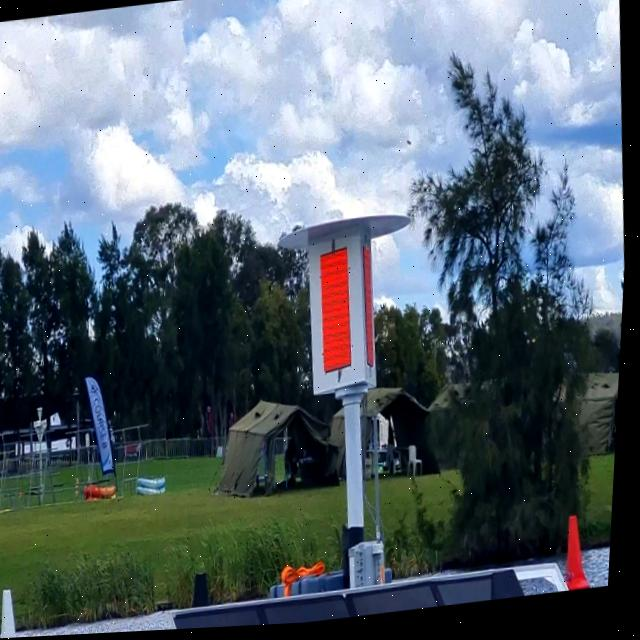led: (309, 242, 373, 386)
